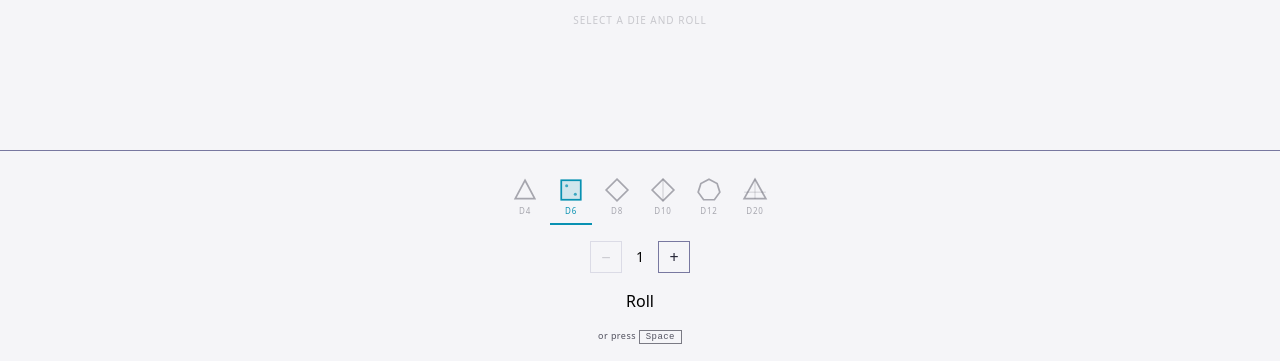
Test: DiceRoller › count stepper › increments die count
Click the button "+": (674, 257) 658,241 -> 690,273
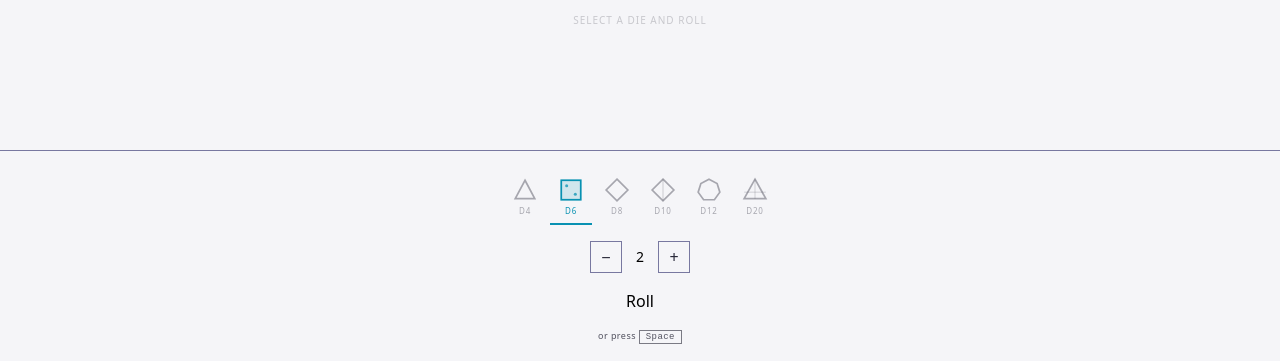
Result: the text "2" is shown at 636,247 -> 644,266
